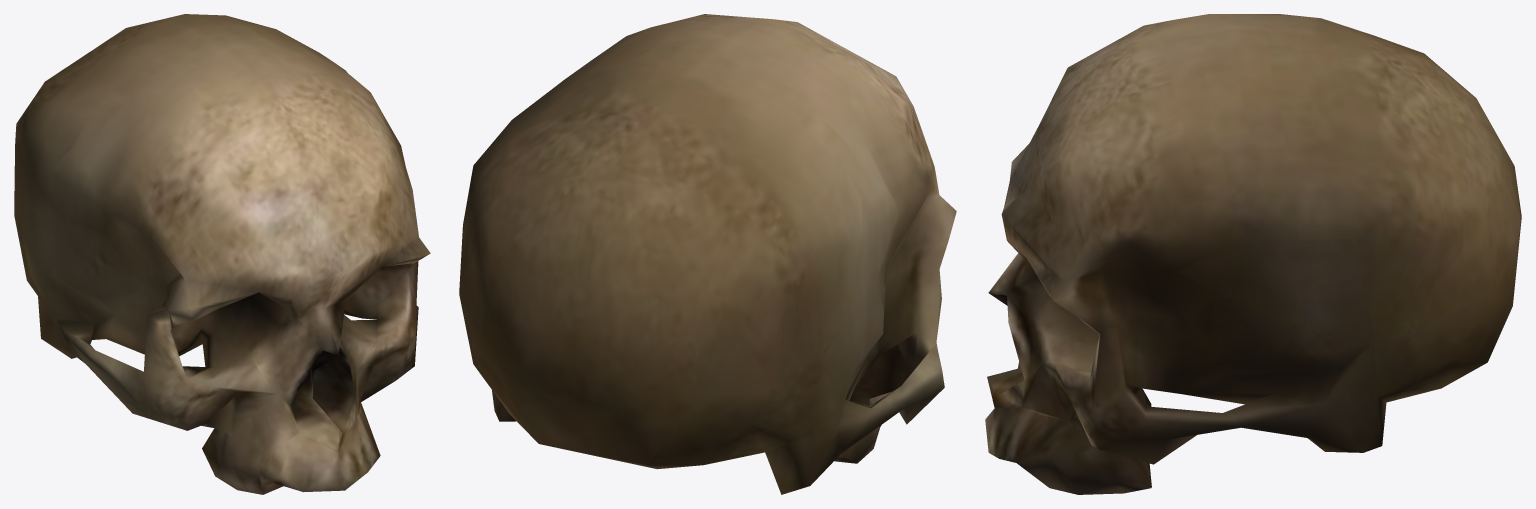
The model's file is skull_03.glb.
3 renders of one model, left to right at view 1: azimuth 30°, elevation 25°; view 2: azimuth 150°, elevation 25°; view 3: azimuth 270°, elevation 25°, orthographic. The views are drawn at different scales.
Parts seen in each view (by area): view 1: skull_03; view 2: skull_03; view 3: skull_03.
Part boxes in pixels (x1=…): skull_03: x1=14, y1=14, x2=430, y2=494; skull_03: x1=459, y1=14, x2=956, y2=494; skull_03: x1=985, y1=14, x2=1521, y2=494.
Size of the model in its own units: 0.1558 by 0.1832 by 0.205.
1 material, 1 textured.
